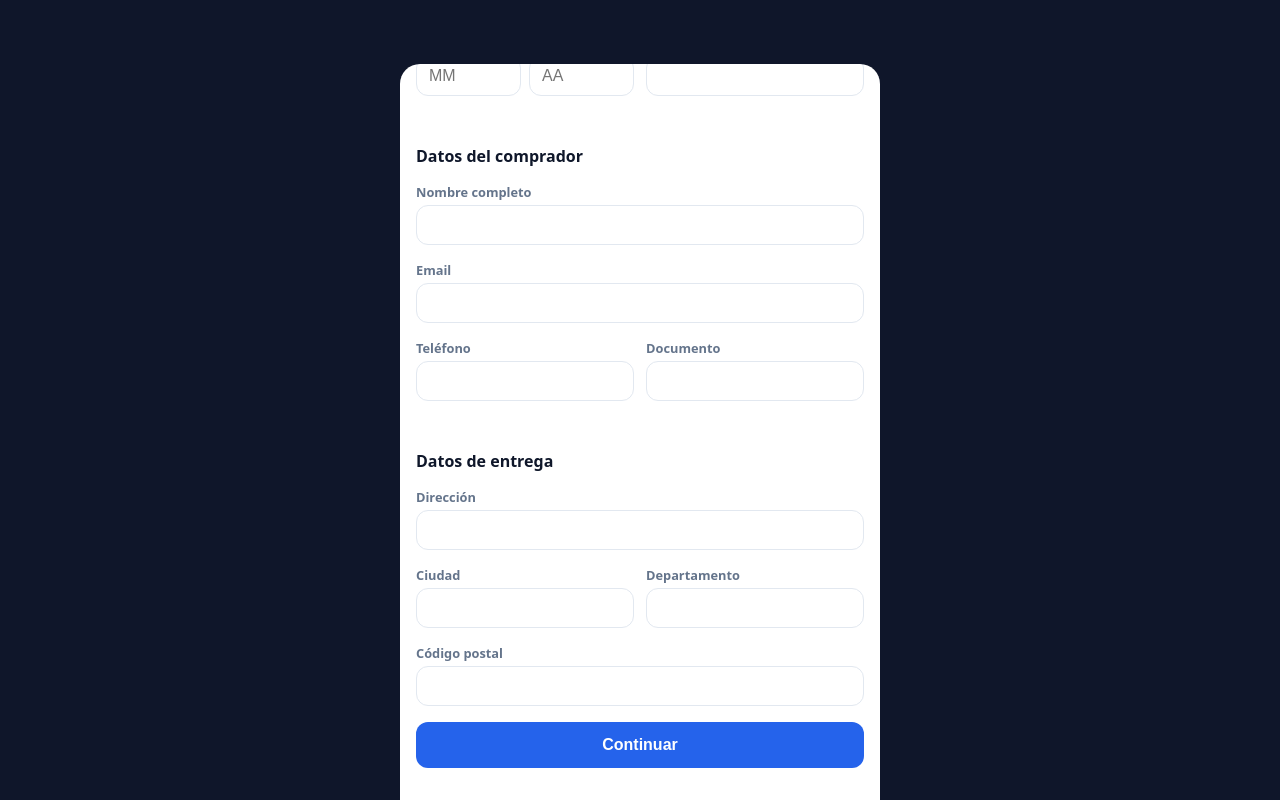
PaymentInfoModal › shows validation errors and does not submit when the form is empty
(page scrolled)
What coordinates should you click on to do the following:
click the button "Continuar"
I would click on:
 (640, 745)
Its box is [416, 722, 864, 768].
(page scrolled)
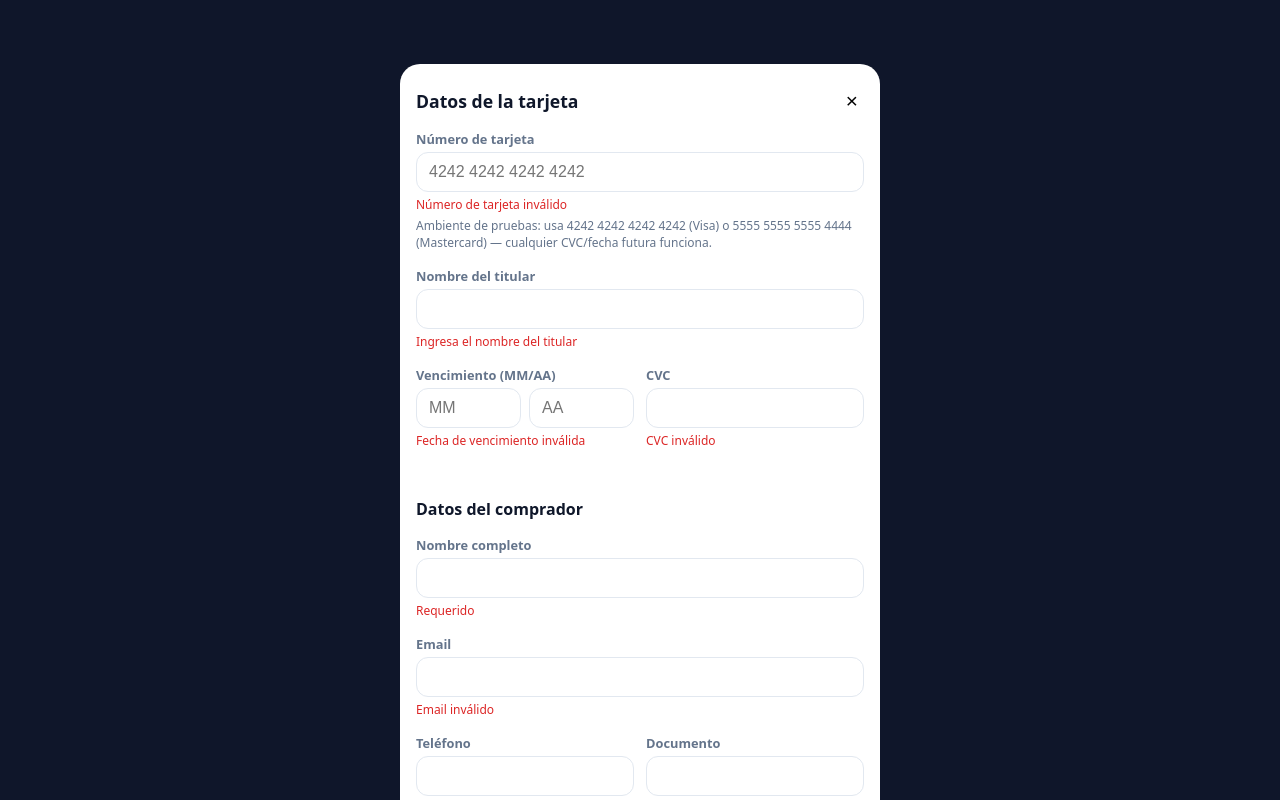
Expected: the text "Número de tarjeta inválido" is shown, [416, 196, 567, 213]
